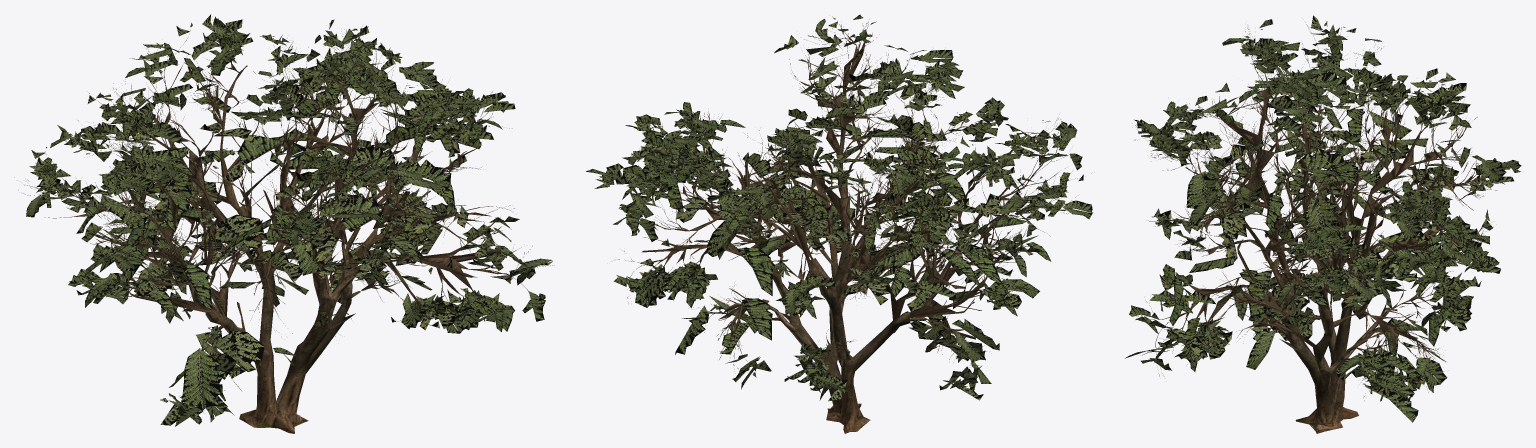
The model's file is jacaranda_tree_lod1.glb.
3 views of the same model, side by side, from view 1: azimuth 30°, elevation 25°; view 2: azimuth 150°, elevation 25°; view 3: azimuth 270°, elevation 25° (orthographic). The views are drawn at different scales.
Visible parts, largest first — view 1: jacaranda_tree_LOD0, jacaranda_tree_LOD0.001, jacaranda_tree_LOD0.002; view 2: jacaranda_tree_LOD0, jacaranda_tree_LOD0.001, jacaranda_tree_LOD0.002; view 3: jacaranda_tree_LOD0, jacaranda_tree_LOD0.001, jacaranda_tree_LOD0.002.
Part boxes in pixels (<box>): jacaranda_tree_LOD0: <box>26,14,552,426</box>; jacaranda_tree_LOD0.001: <box>14,20,554,412</box>; jacaranda_tree_LOD0.002: <box>205,205,387,433</box>; jacaranda_tree_LOD0: <box>586,14,1093,401</box>; jacaranda_tree_LOD0.001: <box>613,16,1091,377</box>; jacaranda_tree_LOD0.002: <box>753,197,911,433</box>; jacaranda_tree_LOD0: <box>1125,15,1521,422</box>; jacaranda_tree_LOD0.001: <box>1132,22,1503,400</box>; jacaranda_tree_LOD0.002: <box>1266,238,1393,433</box>.
Bounding box in the file's own units: 24.84 × 19.47 × 18.91.
Materials: 3 (3 with a texture image).
